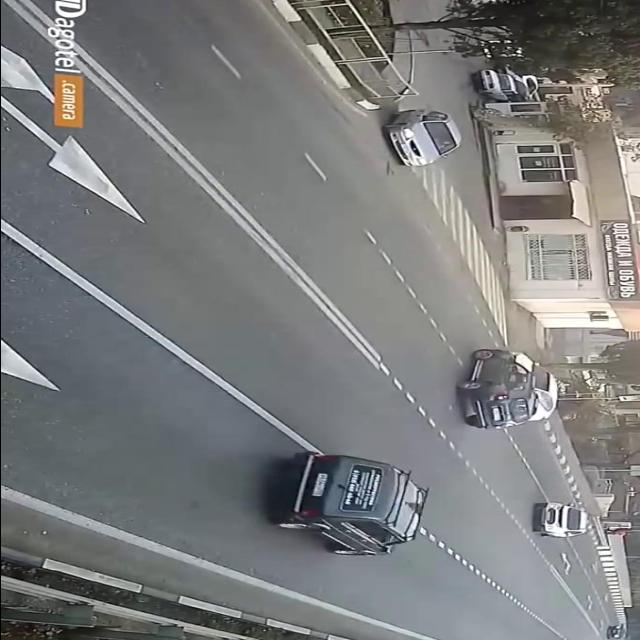accident: (442, 345, 563, 435)
